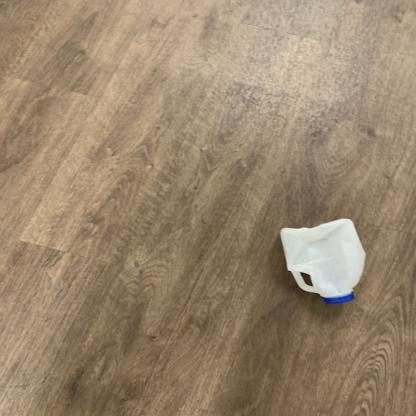trash: (277, 214, 370, 304)
